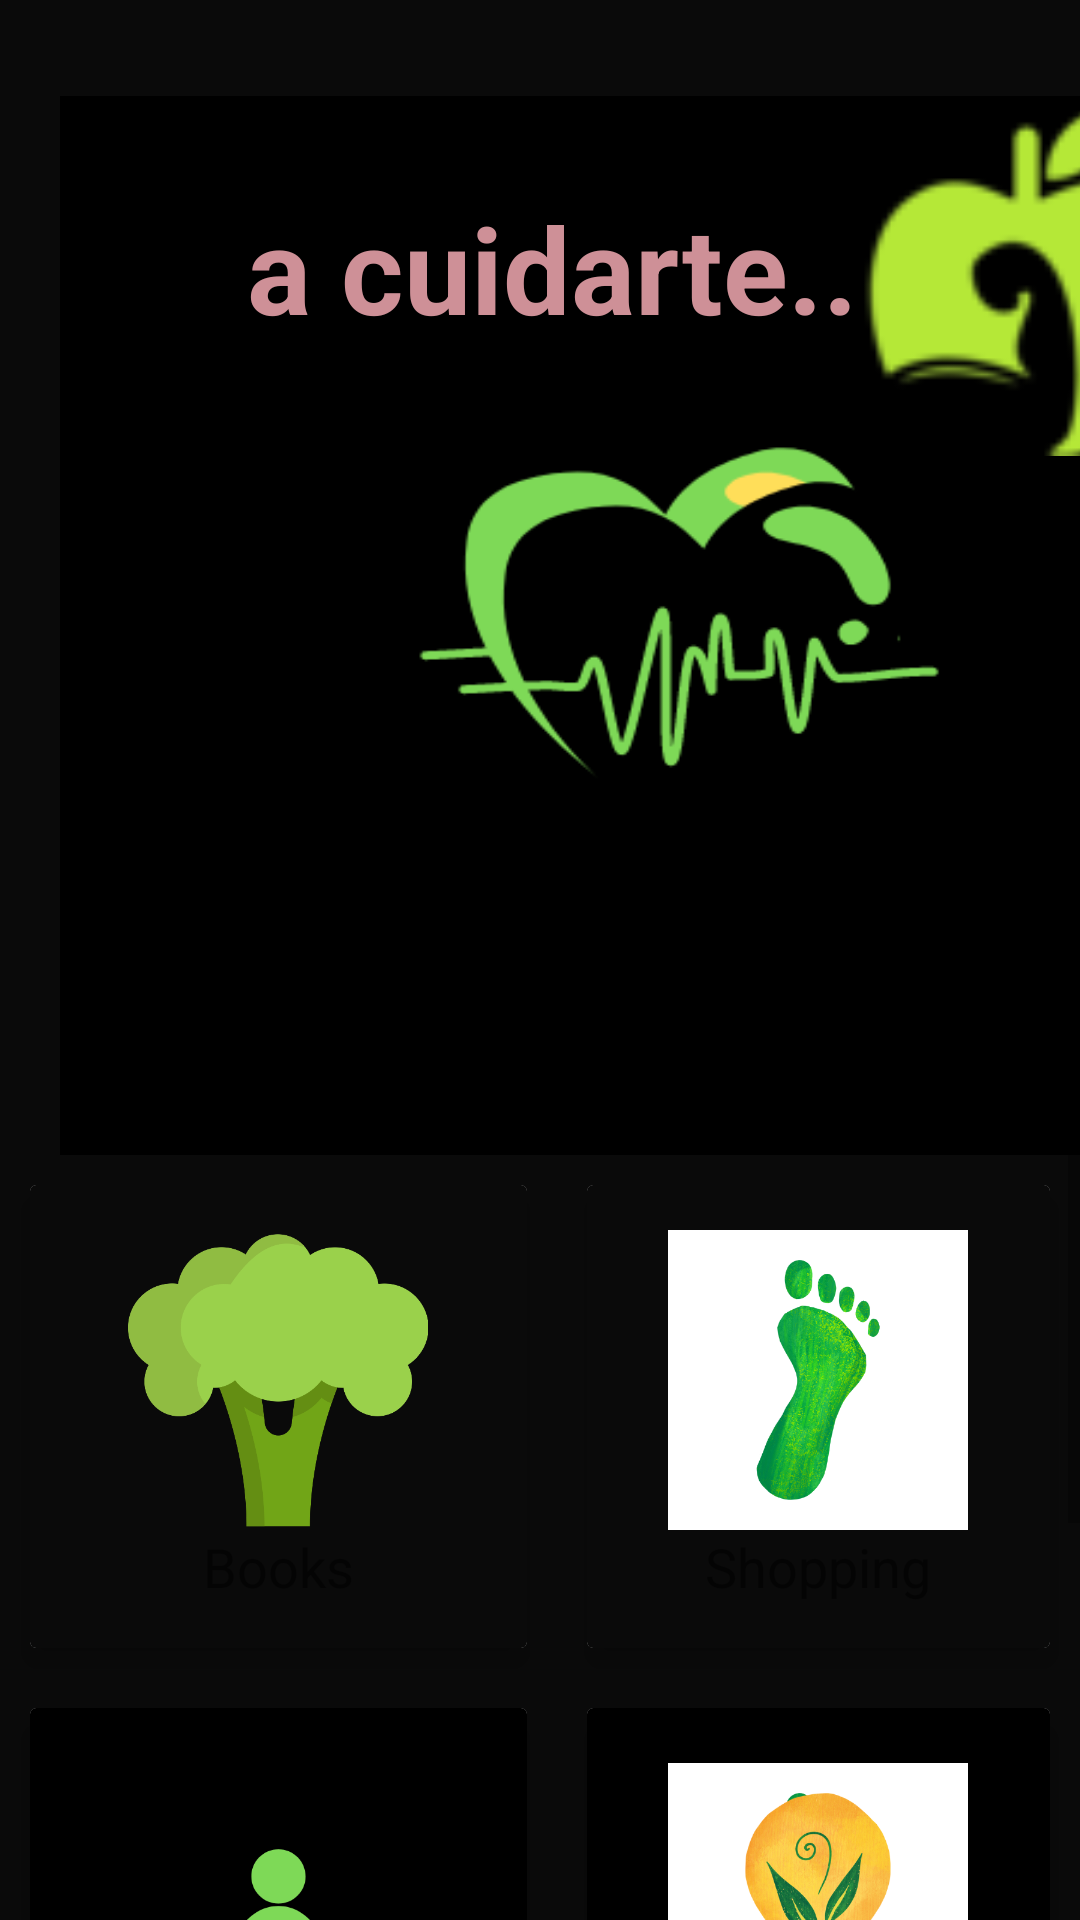

Icon click points for this 1080×1920 phone screenshot, format (x,y):
pata: (818,1380)
